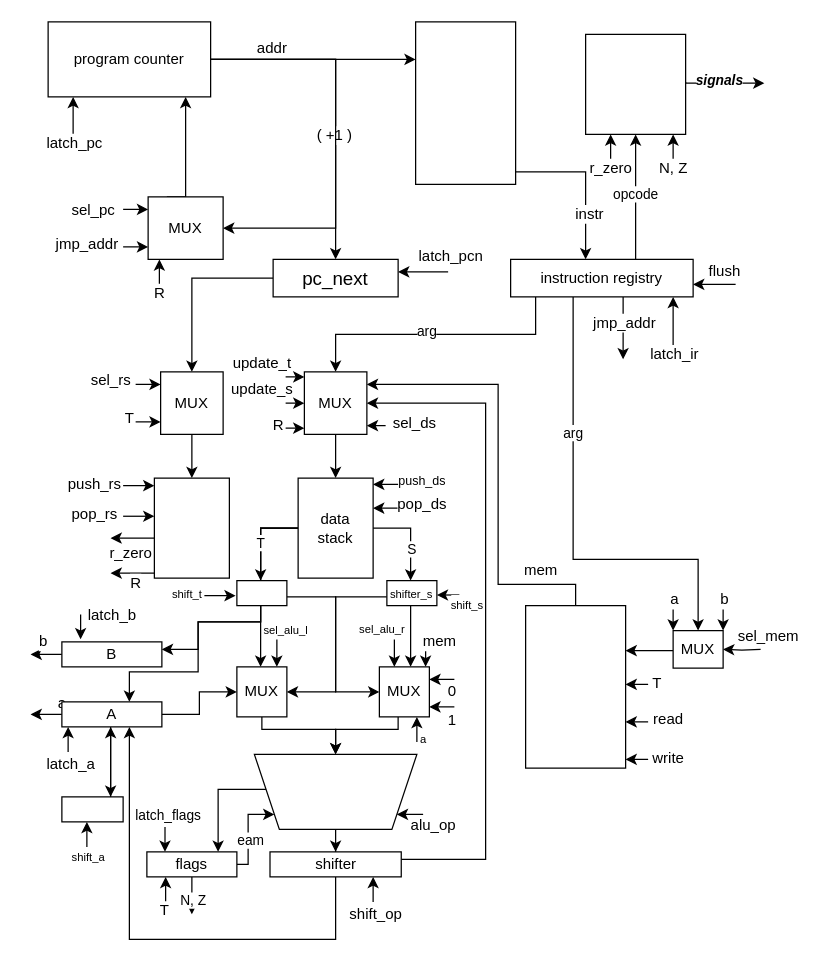
Image size: 820x971. Some labels were removed from this diagram. Here are the shapes that lost their labels. From the top down, the box of each, then its label:
(414, 21, 516, 184): instruction memory
(584, 33, 686, 134): control unit
(153, 477, 229, 578): return stack
(236, 579, 287, 606): shifter_t
(524, 604, 626, 768): data memory
(61, 796, 123, 822): shifter_a
(253, 753, 417, 829): ALU
